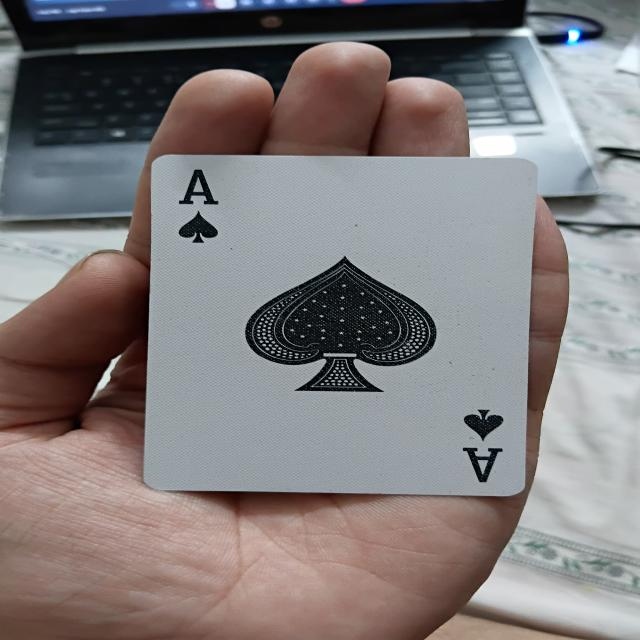AS: (156, 158, 533, 496)
